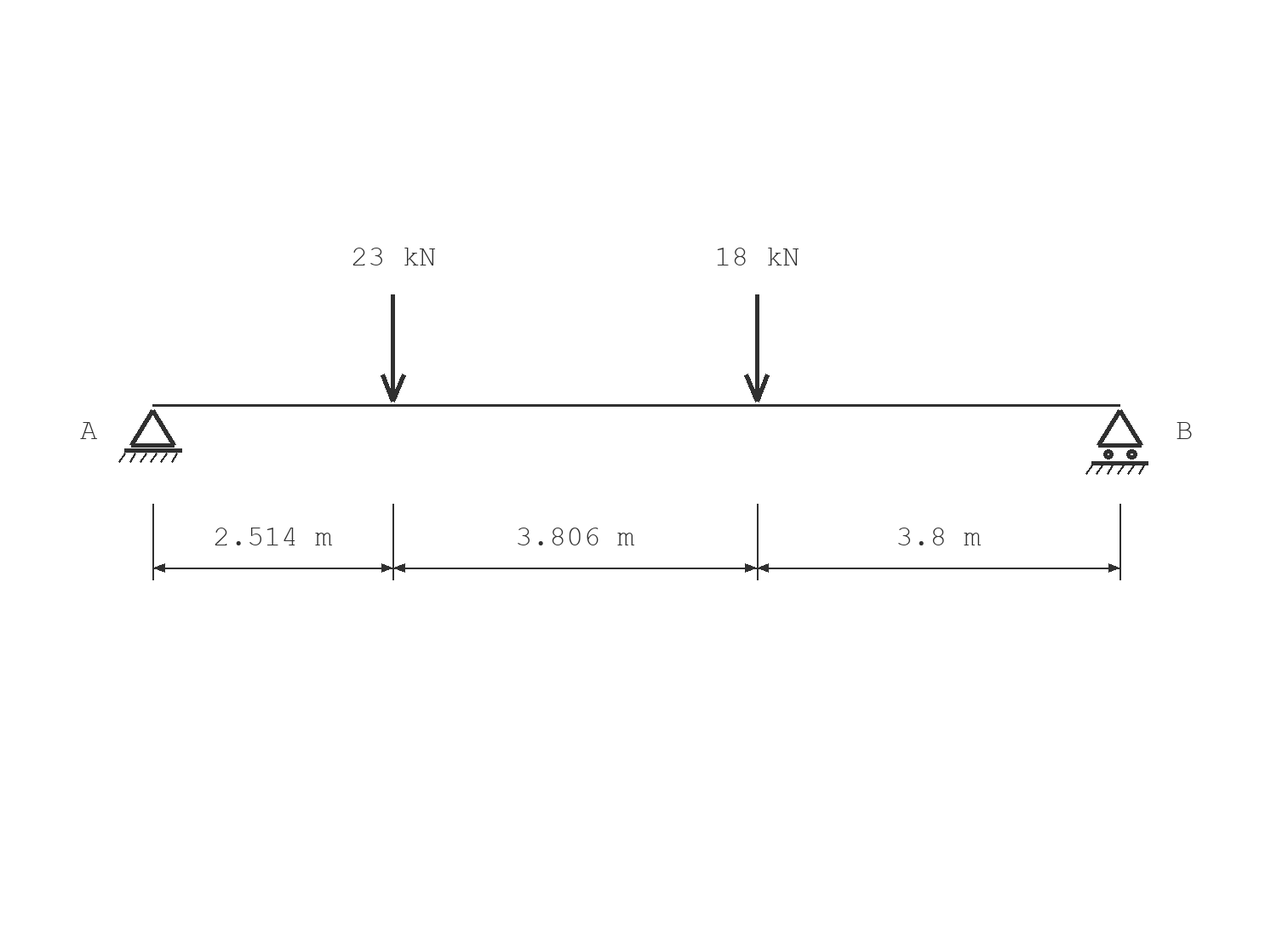pin_support: (118, 409, 182, 463)
point_load: (744, 294, 770, 402), (381, 294, 406, 402)
roller_support: (1085, 409, 1148, 475)
